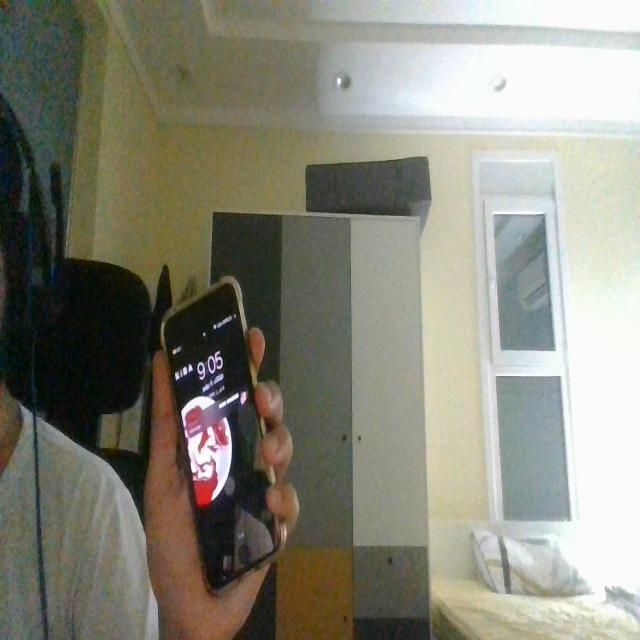Phone: (154, 276, 284, 600)
